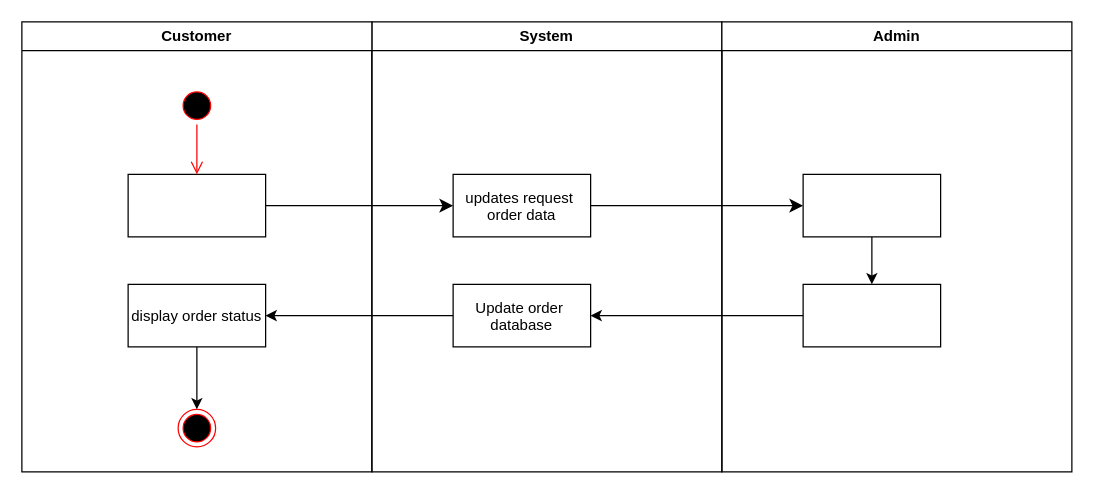
Some shapes in this 1094 by 494 pixel diagram are drawn without their labels. Each missing label, with the box of its shape:
customer sends order: (127, 173, 266, 237)
Receives order data: (802, 173, 941, 237)
Update order status: (802, 283, 941, 347)
